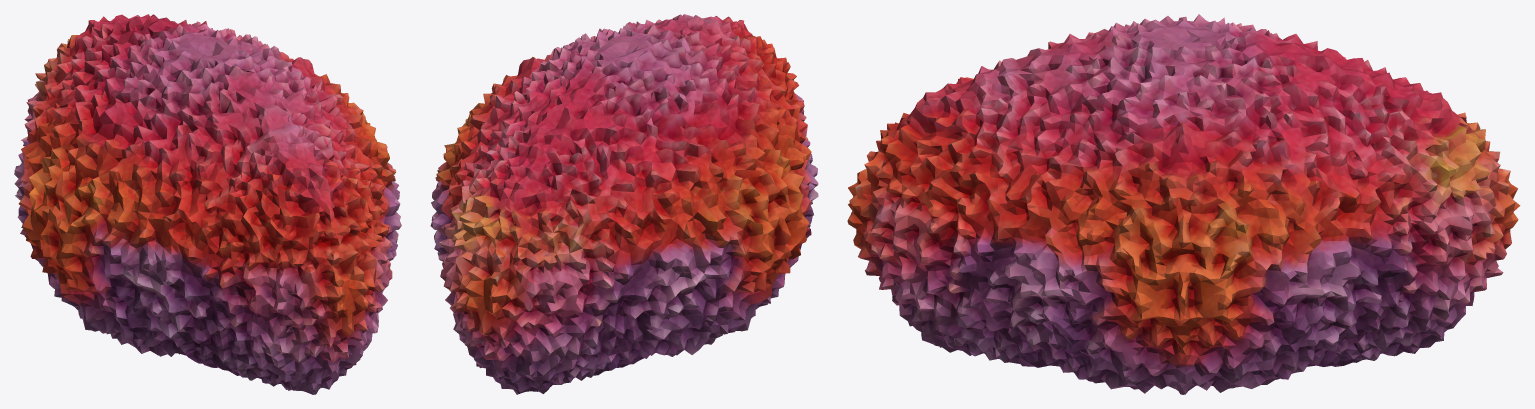
File: coral.glb
3 renders of one model, left to right at view 1: azimuth 30°, elevation 25°; view 2: azimuth 150°, elevation 25°; view 3: azimuth 270°, elevation 25°, orthographic. The views are drawn at different scales.
Parts seen in each view (by area): view 1: CoralReef; view 2: CoralReef; view 3: CoralReef.
Part boxes in pixels (x1,y1,x2,y2): CoralReef: (14, 14, 401, 394); CoralReef: (430, 14, 818, 394); CoralReef: (847, 14, 1520, 394).
Bounding box in the file's own units: 1.25 × 1.04 × 1.89.
Materials: 1 (1 with a texture image).
